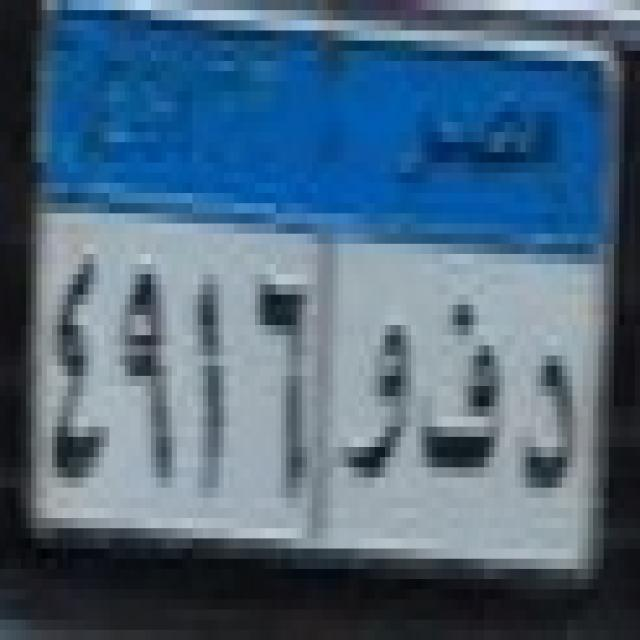1: (187, 266, 244, 504)
4: (42, 242, 111, 494)
6: (250, 265, 317, 489)
9: (118, 248, 182, 496)
F: (420, 286, 508, 500)
Wow: (345, 302, 415, 499)
daal: (522, 333, 582, 501)
